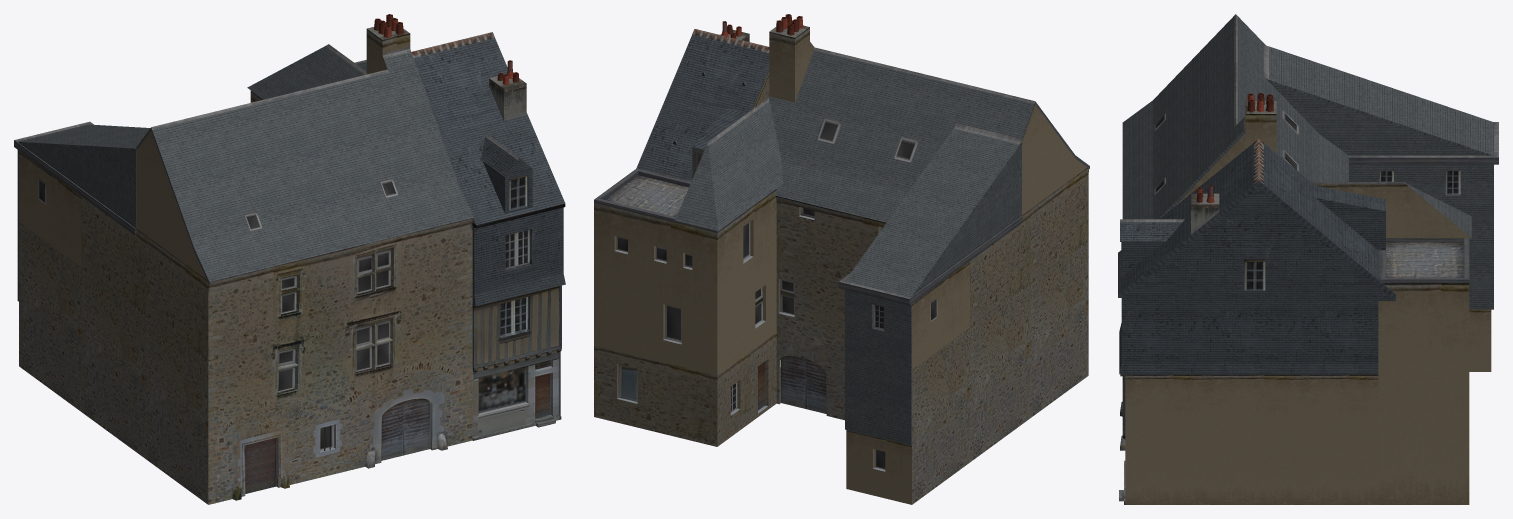
The model's file is le_mans_house_2_france.glb.
3 views of the same model, side by side, from view 1: azimuth 30°, elevation 25°; view 2: azimuth 150°, elevation 25°; view 3: azimuth 270°, elevation 25° (orthographic). The views are drawn at different scales.
Visible parts, largest first — view 1: building; view 2: building; view 3: building.
Part boxes in pixels (<box>): building: <box>14,14,565,504</box>; building: <box>594,14,1089,504</box>; building: <box>1118,14,1498,504</box>.
Size of the model in its own units: 16.15 by 16.15 by 15.49.
1 material, 1 textured.
